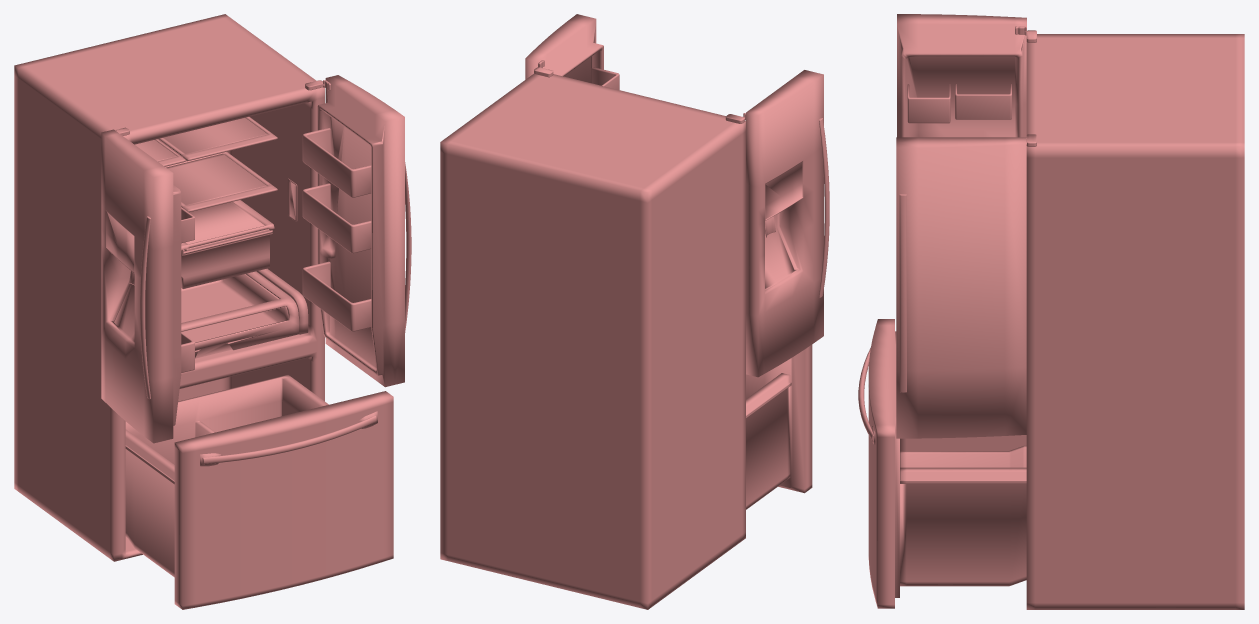
The model's file is Samsung_Fridge_low.obj.
3 renders of one model, left to right at view 1: azimuth 30°, elevation 25°; view 2: azimuth 150°, elevation 25°; view 3: azimuth 270°, elevation 25°, orthographic. The views are drawn at different scales.
Parts seen in each view (by area): view 1: Body, Refregerator, Left_Door, Right_Door, Interior_Drawner, Interior_Shelves, Right_Door_Shelves, Refregerator_Handle, Left_Door_Handle, Left_Door_Shelves, Interior_Support, Right_Door_Handle; view 2: Body, Left_Door, Refregerator, Right_Door, Left_Door_Handle; view 3: Body, Right_Door, Refregerator, Left_Door, Left_Door_Shelves, Right_Door_Handle, Refregerator_Handle.
Boxes of the visible parts, <box> form: Body: <box>14,14,324,561</box>; Refregerator: <box>125,375,393,609</box>; Left_Door: <box>101,129,181,443</box>; Right_Door: <box>317,75,404,387</box>; Interior_Drawner: <box>181,229,299,358</box>; Interior_Shelves: <box>135,117,277,250</box>; Right_Door_Shelves: <box>302,128,371,331</box>; Refregerator_Handle: <box>202,415,376,464</box>; Left_Door_Handle: <box>140,216,150,399</box>; Left_Door_Shelves: <box>181,207,194,372</box>; Interior_Support: <box>256,268,308,334</box>; Right_Door_Handle: <box>405,162,411,332</box>; Body: <box>440,73,745,609</box>; Left_Door: <box>746,70,823,377</box>; Refregerator: <box>746,344,812,509</box>; Right_Door: <box>525,14,603,83</box>; Left_Door_Handle: <box>819,118,829,297</box>; Body: <box>1026,34,1244,609</box>; Right_Door: <box>896,137,1026,438</box>; Refregerator: <box>868,319,1026,608</box>; Left_Door: <box>897,14,1026,137</box>; Left_Door_Shelves: <box>907,84,1011,123</box>; Right_Door_Handle: <box>899,194,906,392</box>; Refregerator_Handle: <box>858,347,873,442</box>.
Size of the model in its own units: 45.65 by 70.48 by 51.8.
